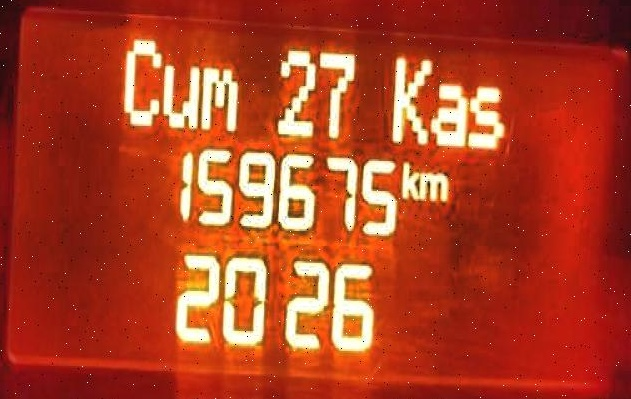0: (221, 254, 266, 345)
1: (178, 147, 194, 221)
2: (172, 250, 220, 344), (283, 257, 329, 351), (275, 47, 314, 137)
5: (194, 146, 233, 226), (360, 157, 397, 236)
6: (329, 261, 375, 351), (275, 150, 316, 229)
7: (317, 49, 355, 137), (324, 154, 359, 230)
9: (236, 147, 273, 227)
X: (390, 54, 431, 144), (121, 36, 160, 126), (429, 81, 468, 146), (160, 62, 197, 129), (466, 82, 503, 149), (199, 66, 236, 132), (416, 169, 447, 202), (399, 161, 419, 201)
